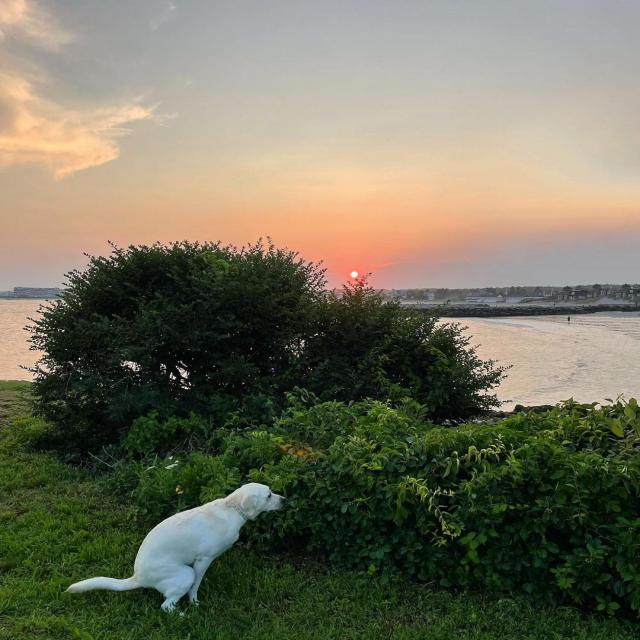squatting: (64, 480, 309, 619)
